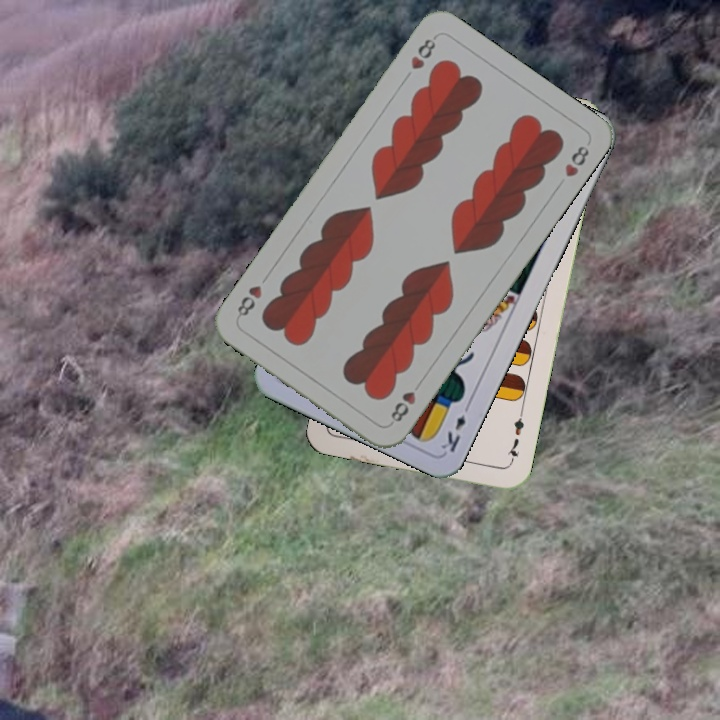E7: (503, 407, 527, 466)
EK: (437, 398, 474, 455)
H8: (386, 376, 425, 425), (406, 31, 439, 72)
